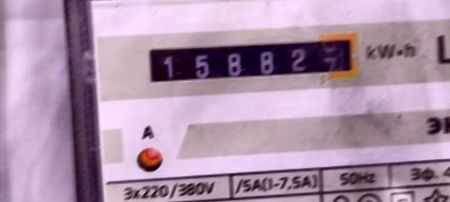1: (162, 49, 176, 79)
2: (289, 45, 307, 71)
5: (193, 50, 211, 80)
7: (322, 52, 336, 70)
8: (225, 48, 242, 77), (258, 46, 275, 75)
screen: (137, 22, 365, 93)
